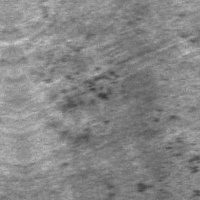rolled-in_scale: (36, 46, 127, 139), (150, 106, 199, 181)
